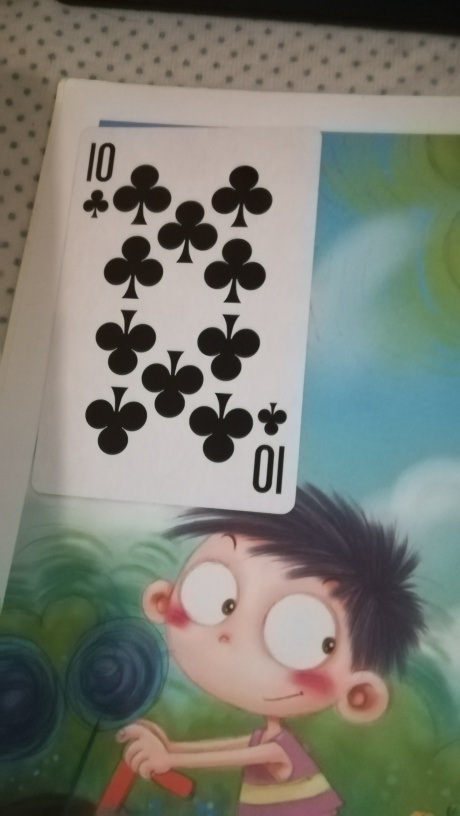mh 10: (28, 121, 322, 519)
